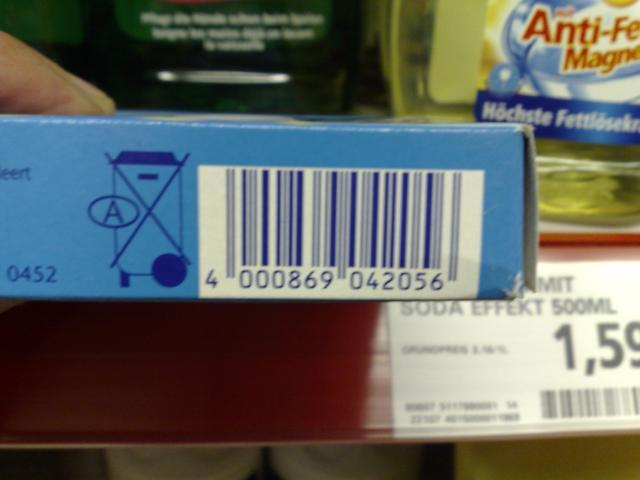Barcode: (198, 164, 484, 301)
